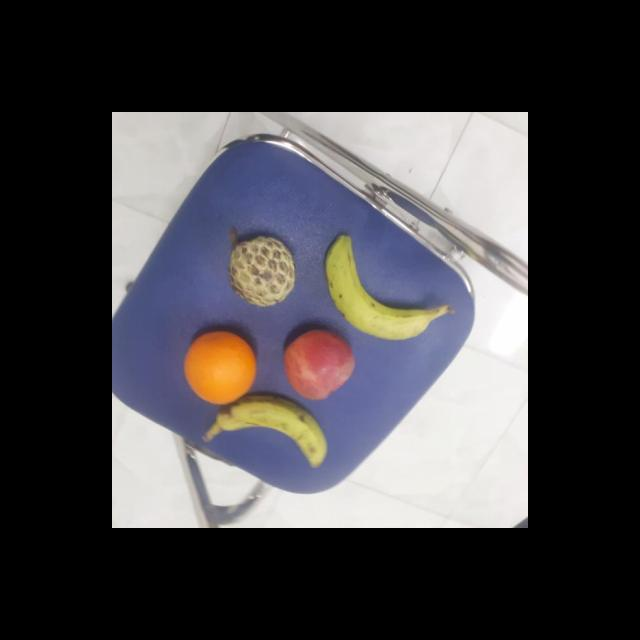Sakya fruit: (225, 236, 301, 308)
apple: (277, 327, 358, 404)
banana: (324, 234, 432, 342), (216, 394, 332, 474)
orange: (182, 331, 259, 408)
